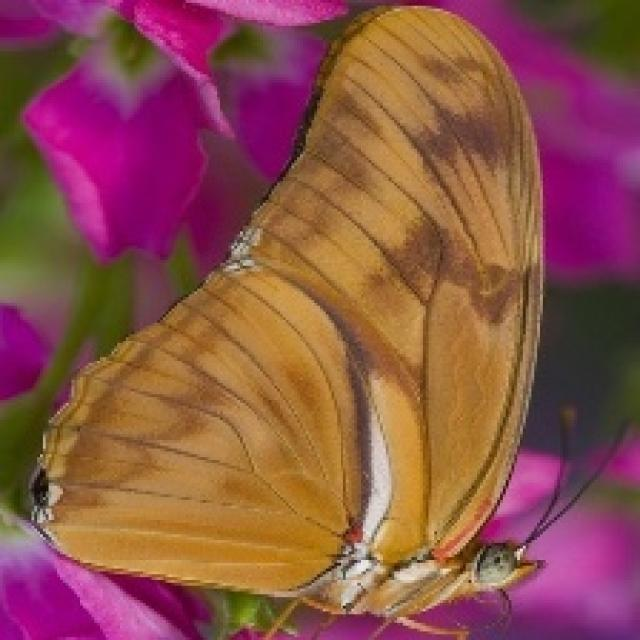butterfly: (26, 0, 634, 637)
